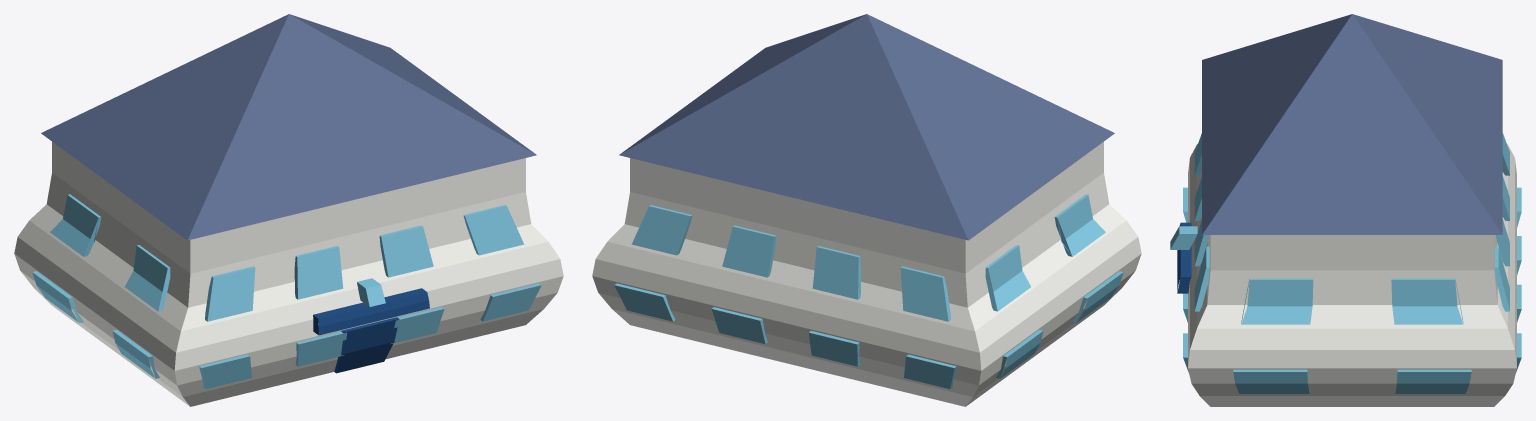
The model's file is police_station.glb.
3 views of the same model, side by side, from view 1: azimuth 30°, elevation 25°; view 2: azimuth 150°, elevation 25°; view 3: azimuth 270°, elevation 25° (orthographic). The views are drawn at different scales.
Parts seen in each view (by area): view 1: police_station_offwhite, police_station_roof_slate, police_station_window, police_station_garda_blue; view 2: police_station_offwhite, police_station_roof_slate, police_station_window; view 3: police_station_roof_slate, police_station_offwhite, police_station_window, police_station_garda_blue.
Part boxes in pixels (x1=…): police_station_offwhite: x1=14, y1=142, x2=563, y2=406; police_station_roof_slate: x1=41, y1=14, x2=536, y2=240; police_station_window: x1=32, y1=194, x2=541, y2=388; police_station_garda_blue: x1=313, y1=288, x2=429, y2=373; police_station_offwhite: x1=592, y1=142, x2=1141, y2=406; police_station_roof_slate: x1=619, y1=14, x2=1114, y2=240; police_station_window: x1=614, y1=194, x2=1123, y2=388; police_station_roof_slate: x1=1202, y1=14, x2=1502, y2=234; police_station_offwhite: x1=1188, y1=144, x2=1516, y2=406; police_station_window: x1=1170, y1=133, x2=1521, y2=393; police_station_garda_blue: x1=1177, y1=222, x2=1191, y2=293.
Size of the model in its own units: 17.24 by 12.5 by 12.89.
